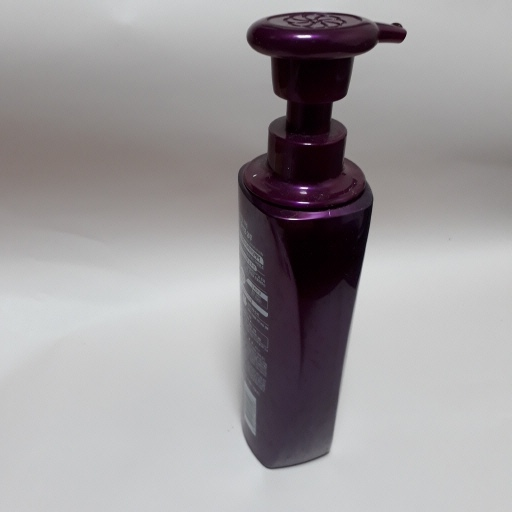Plastic_3: (229, 9, 407, 480)
